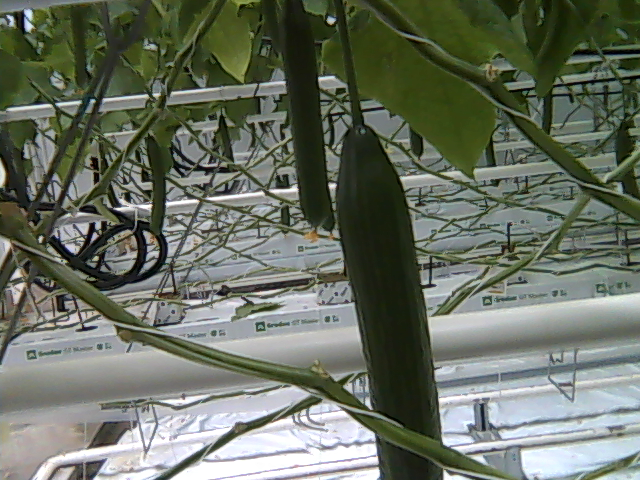concombre: (332, 114, 452, 480)
